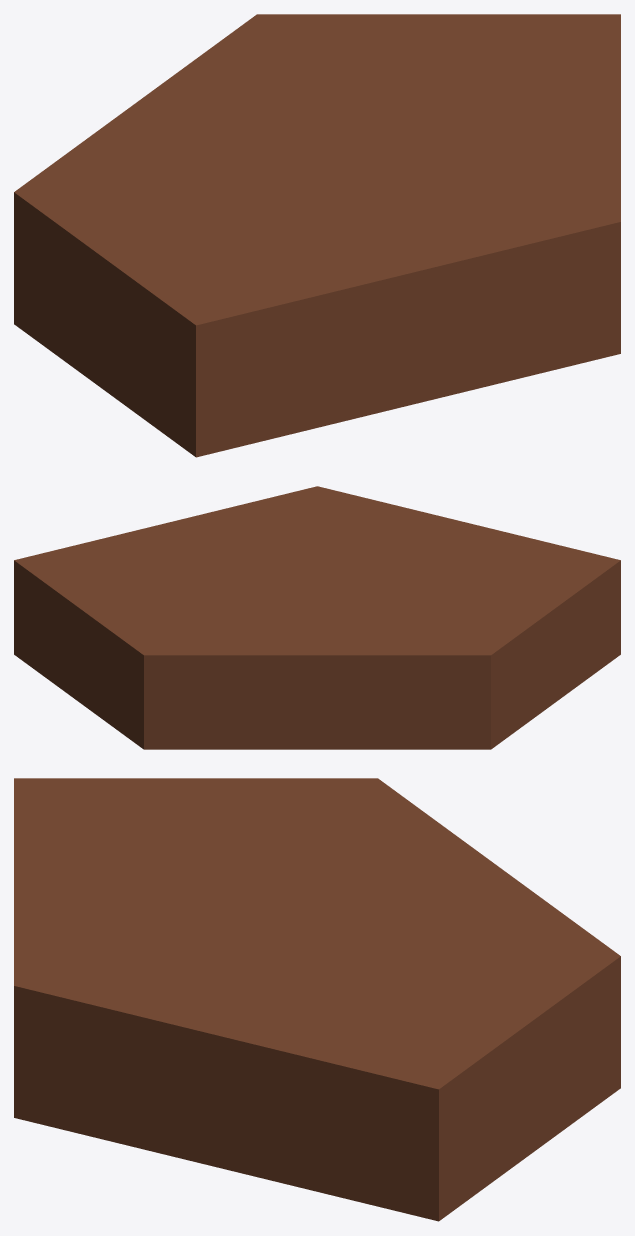
File: wooden_wall4.glb
3 views of the same model, one above another, from view 1: azimuth 30°, elevation 25°; view 2: azimuth 150°, elevation 25°; view 3: azimuth 270°, elevation 25° (orthographic). The views are drawn at different scales.
Visible parts, largest first — view 1: WoodenWall4; view 2: WoodenWall4; view 3: WoodenWall4.
Boxes of the visible parts, x1=… form: WoodenWall4: x1=14, y1=14, x2=620, y2=457; WoodenWall4: x1=14, y1=486, x2=620, y2=749; WoodenWall4: x1=14, y1=778, x2=620, y2=1221.
Bounding box in the file's own units: 1.52 × 0.3 × 1.25.
Materials: 1 (1 with a texture image).
